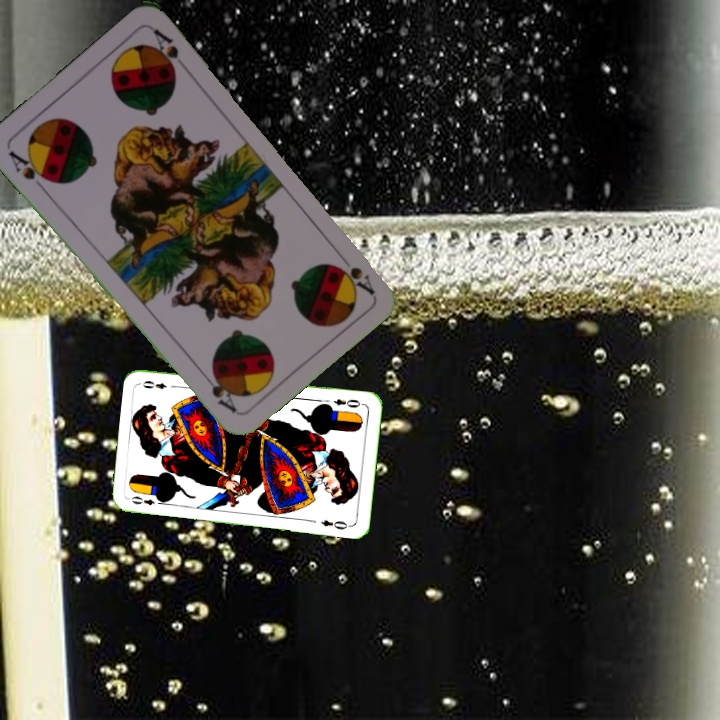EO: (127, 492, 166, 508), (330, 395, 366, 410)
SA: (4, 146, 55, 195), (336, 262, 377, 298)
